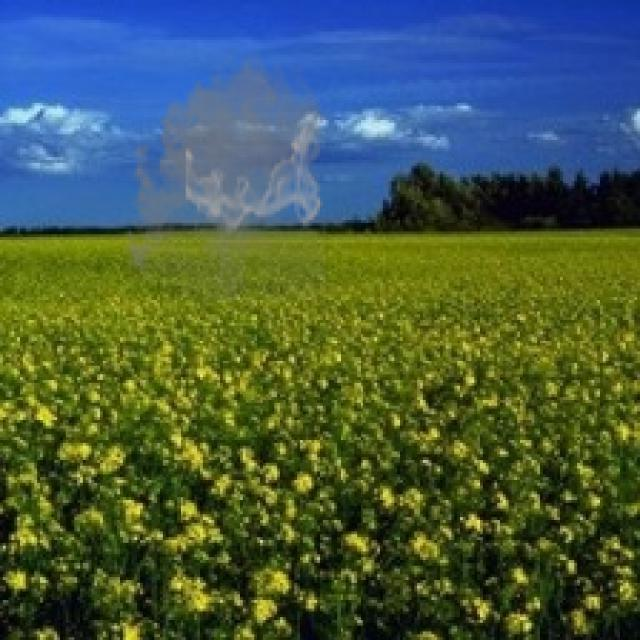Smoke: (120, 43, 329, 303)
